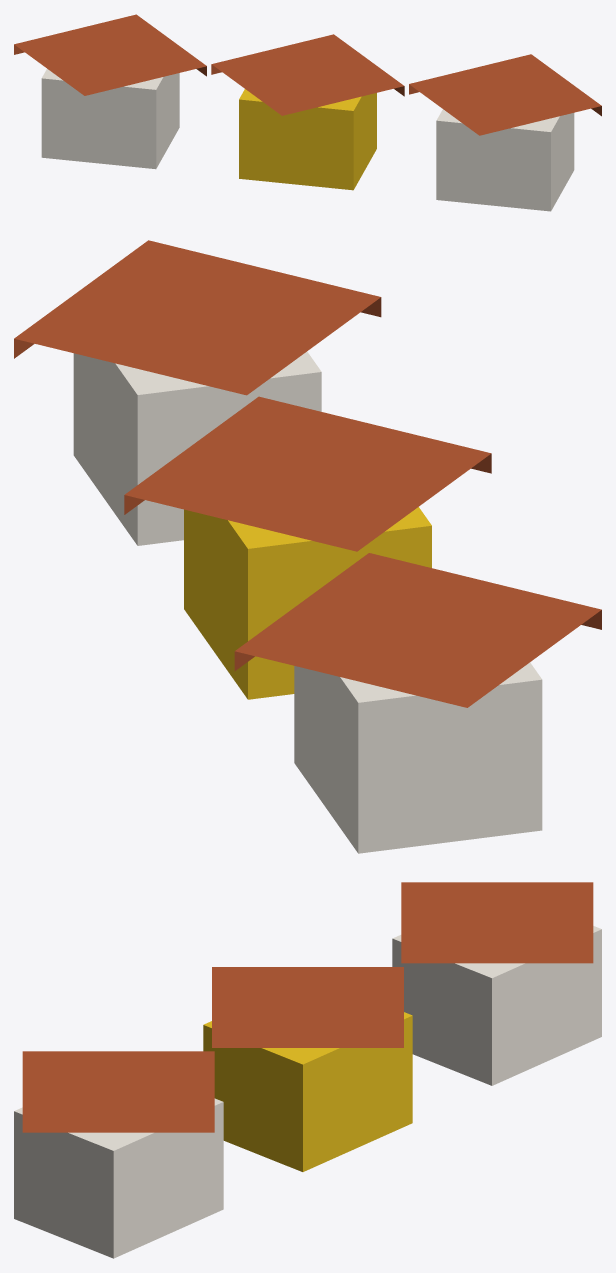
Rendered from nicecream.glb.
3 renders of one model, top to bottom at view 1: azimuth 30°, elevation 25°; view 2: azimuth 150°, elevation 25°; view 3: azimuth 270°, elevation 25°, orthographic. The views are drawn at different scales.
Parts seen in each view (by area): view 1: nicecream_lod0; view 2: nicecream_lod0; view 3: nicecream_lod0.
Part boxes in pixels (x1,y1,x2,y2): nicecream_lod0: (14,14,601,211); nicecream_lod0: (14,240,601,853); nicecream_lod0: (14,882,601,1258).
Size of what is drawn, in the model's own units: 13.36 by 2.95 by 12.87.
